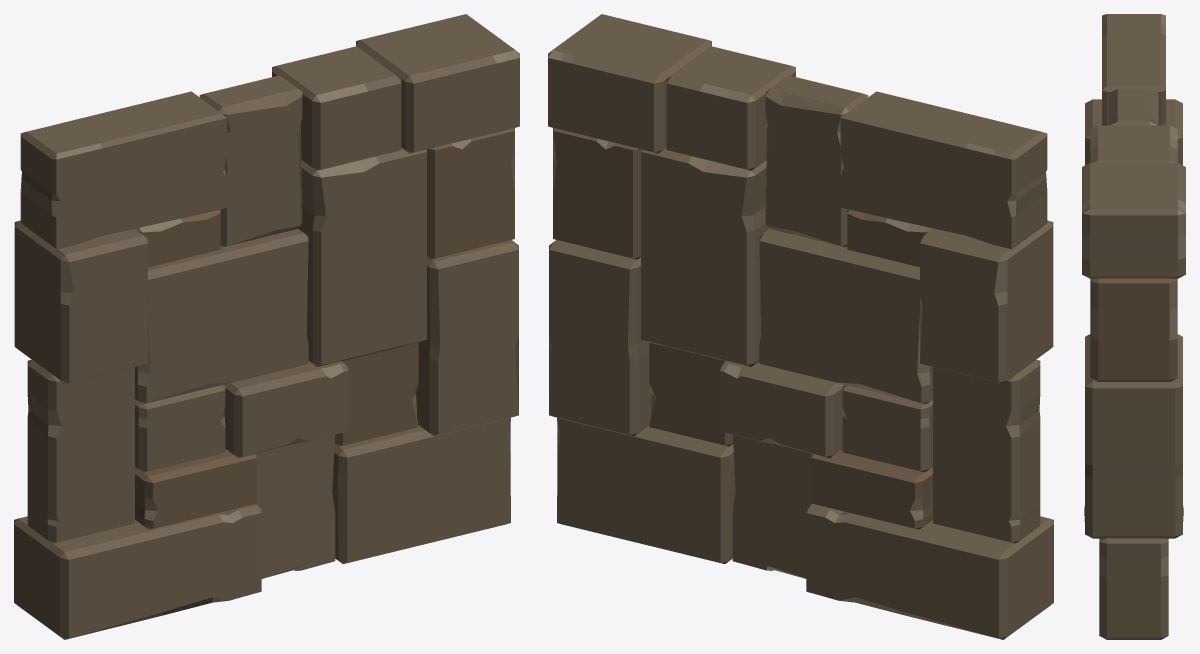
File: Wall_Modular.glb
The picture shows the model from 3 angles, left to right: view 1: azimuth 30°, elevation 25°; view 2: azimuth 150°, elevation 25°; view 3: azimuth 270°, elevation 25°; orthographic projection. The views are drawn at different scales.
Visible parts, largest first — view 1: Wall_Modular; view 2: Wall_Modular; view 3: Wall_Modular.
Part boxes in pixels (left/top/right/bottom): Wall_Modular: left=14, top=14, right=519, bottom=639; Wall_Modular: left=548, top=14, right=1053, bottom=639; Wall_Modular: left=1082, top=14, right=1185, bottom=639.
Size of the model in its own units: 0.8003 by 0.8022 by 0.1752.
